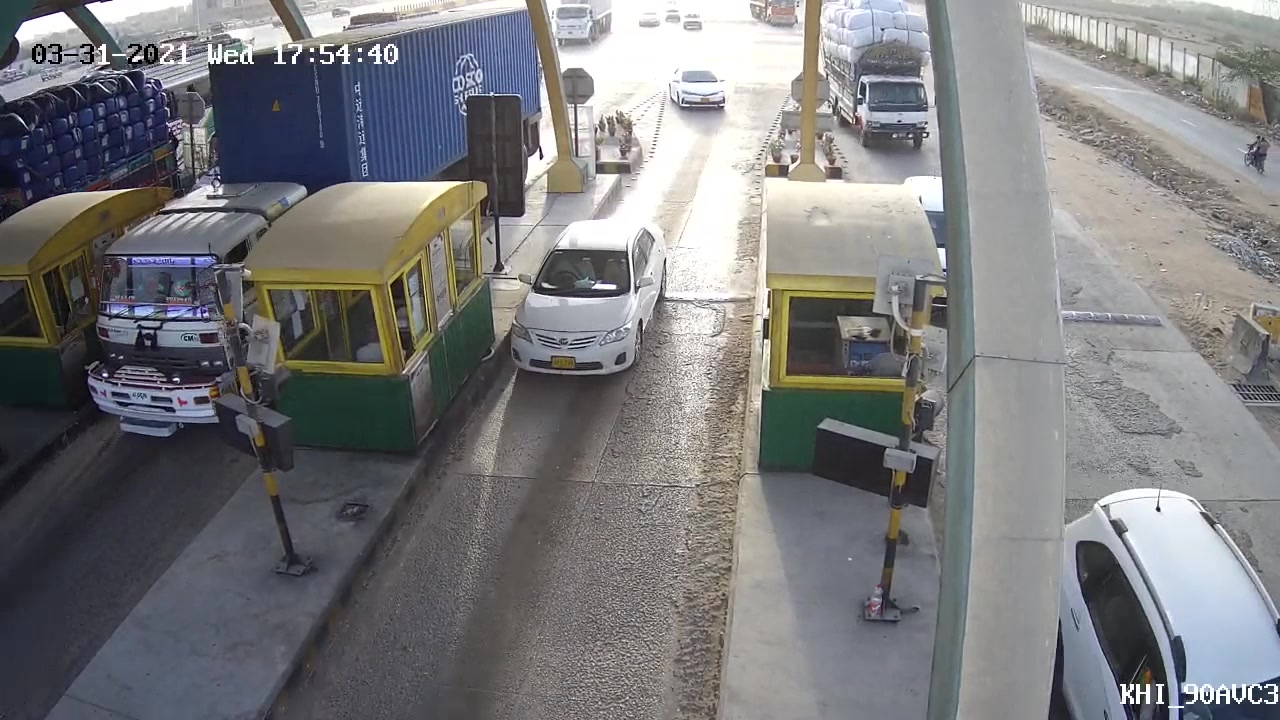F1: (496, 213, 683, 380)
